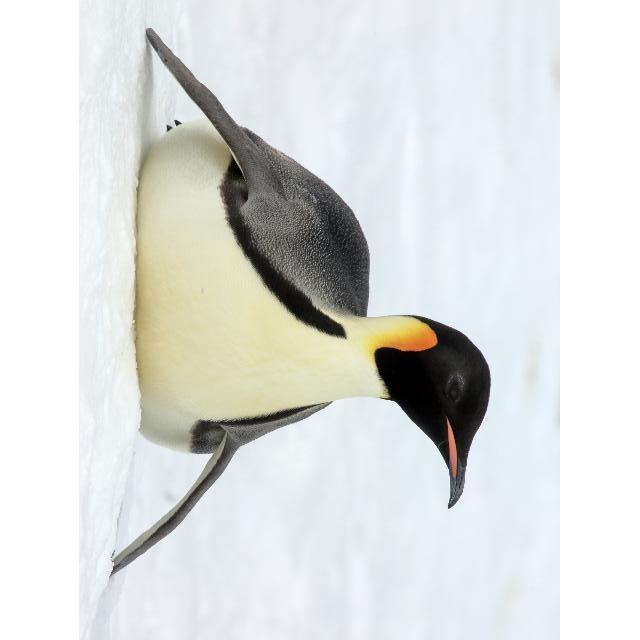penguin: (108, 26, 491, 578)
